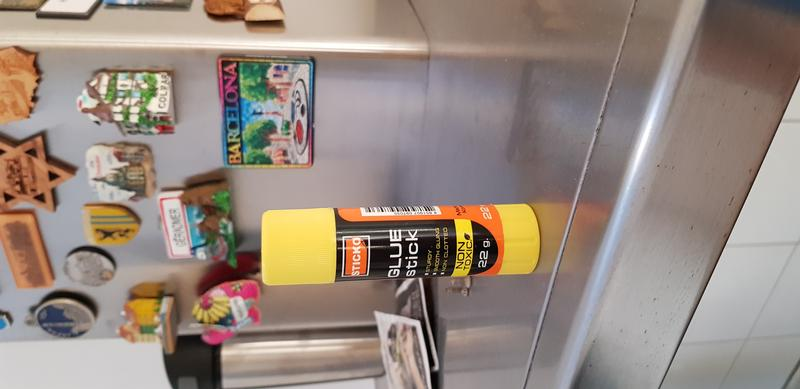Glue-Stick: (247, 198, 551, 292)
